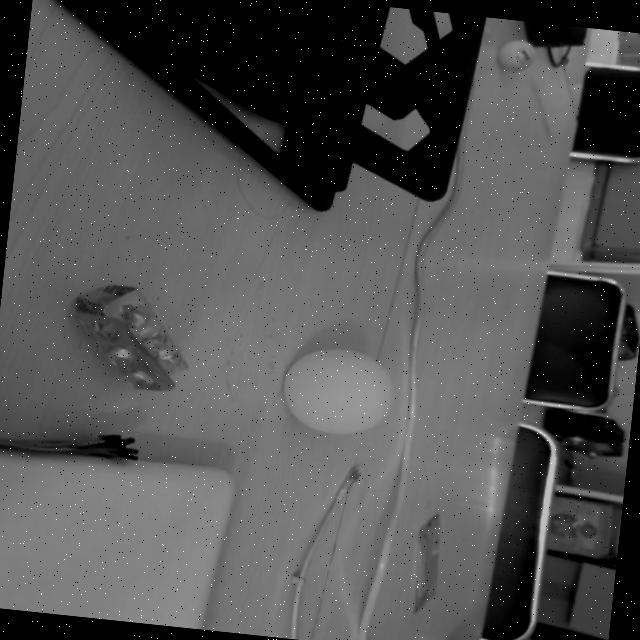ping-pong-ball: (493, 35, 540, 74)
